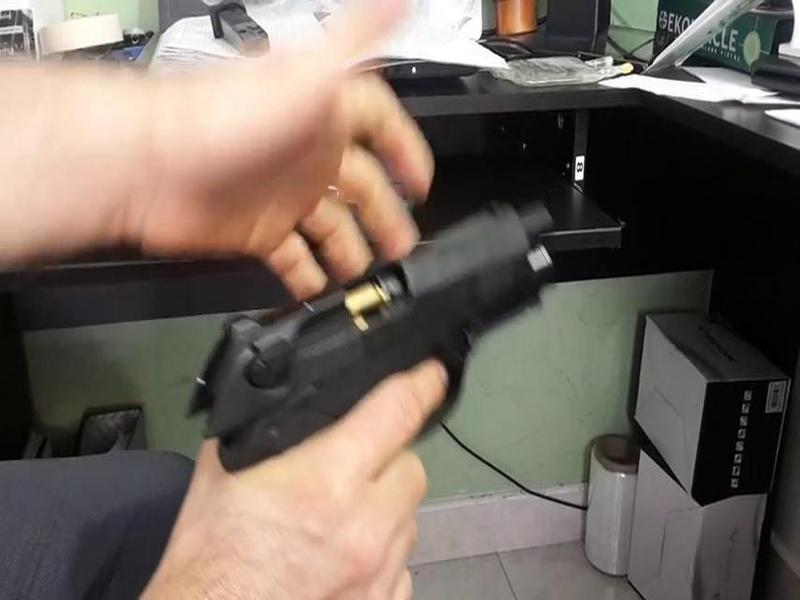Pistola: (183, 187, 556, 501)
